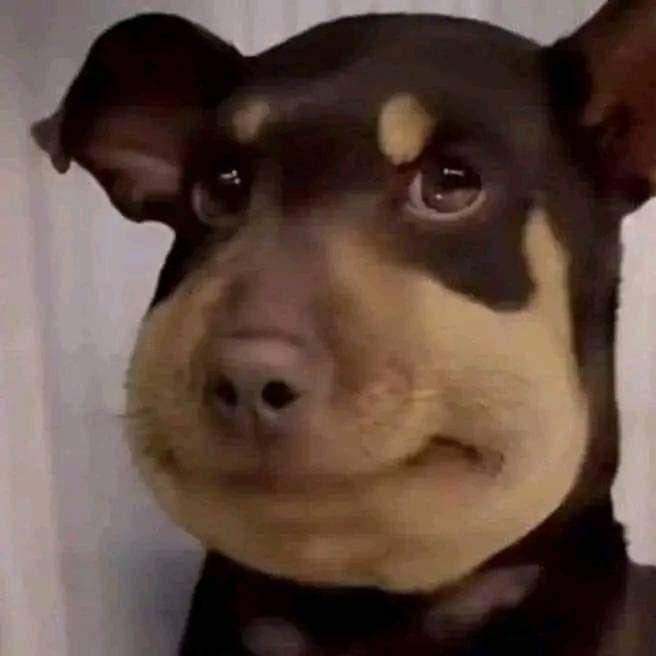adult_dog: (27, 1, 656, 655)
